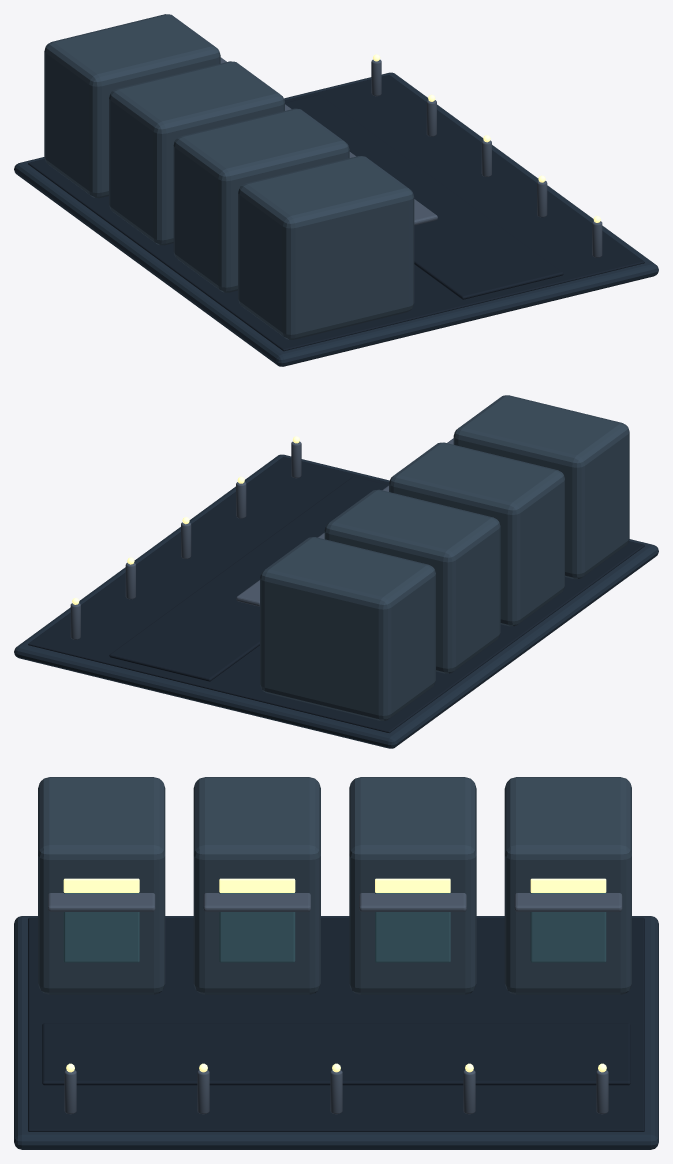
File: client-street.glb
3 views of the same model, one above another, from view 1: azimuth 30°, elevation 25°; view 2: azimuth 150°, elevation 25°; view 3: azimuth 270°, elevation 25° (orthographic). The views are drawn at different scales.
Parts seen in each view (by area): view 1: shop_shell.003, inset, shop_shell.002, shop_shell, shop_shell.001, street, platform; view 2: shop_shell, inset, shop_shell.003, shop_shell.001, shop_shell.002, street, platform; view 3: inset, street, shop_shell.001, shop_shell.003, shop_shell, shop_shell.002, platform, shop_window, shop_window.002, shop_window.003, shop_window.001, awning (+12 smaller).
Boxes of the visible parts, <box> form: shop_shell.003: <box>238,156,414,339</box>; inset: <box>28,75,644,351</box>; shop_shell.002: <box>173,108,349,292</box>; shop_shell: <box>44,14,220,198</box>; shop_shell.001: <box>109,61,284,245</box>; street: <box>285,94,563,299</box>; platform: <box>14,72,658,366</box>; shop_shell: <box>260,537,435,720</box>; inset: <box>28,457,644,732</box>; shop_shell.003: <box>453,395,629,579</box>; shop_shell.001: <box>324,489,500,673</box>; shop_shell.002: <box>389,442,564,626</box>; street: <box>109,476,388,681</box>; platform: <box>14,454,658,748</box>; inset: <box>28,917,644,1131</box>; street: <box>42,1023,630,1085</box>; shop_shell.001: <box>349,777,476,994</box>; shop_shell.003: <box>38,777,165,994</box>; shop_shell: <box>504,777,631,994</box>; shop_shell.002: <box>193,777,320,994</box>; platform: <box>14,916,658,1149</box>; shop_window: <box>530,893,606,962</box>; shop_window.002: <box>219,893,295,962</box>; shop_window.003: <box>63,893,139,962</box>; shop_window.001: <box>375,892,450,962</box>; awning: <box>514,893,622,911</box>.
Bounding box in the file's own units: 9.4 × 3.22 × 11.4.
